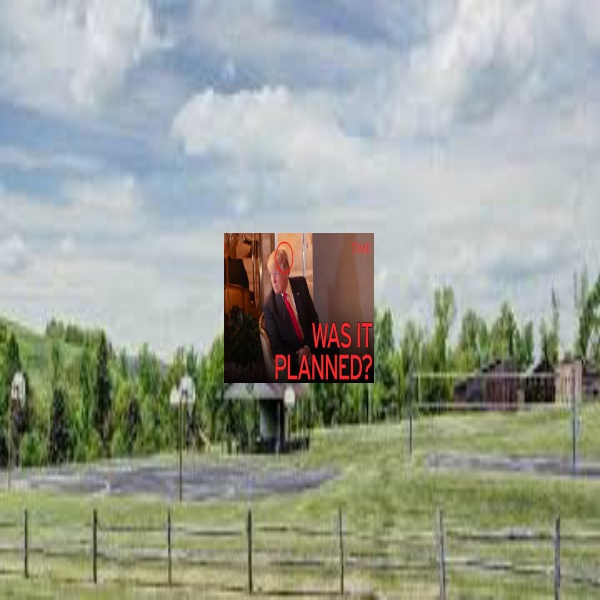time_cover: (213, 224, 379, 383)
